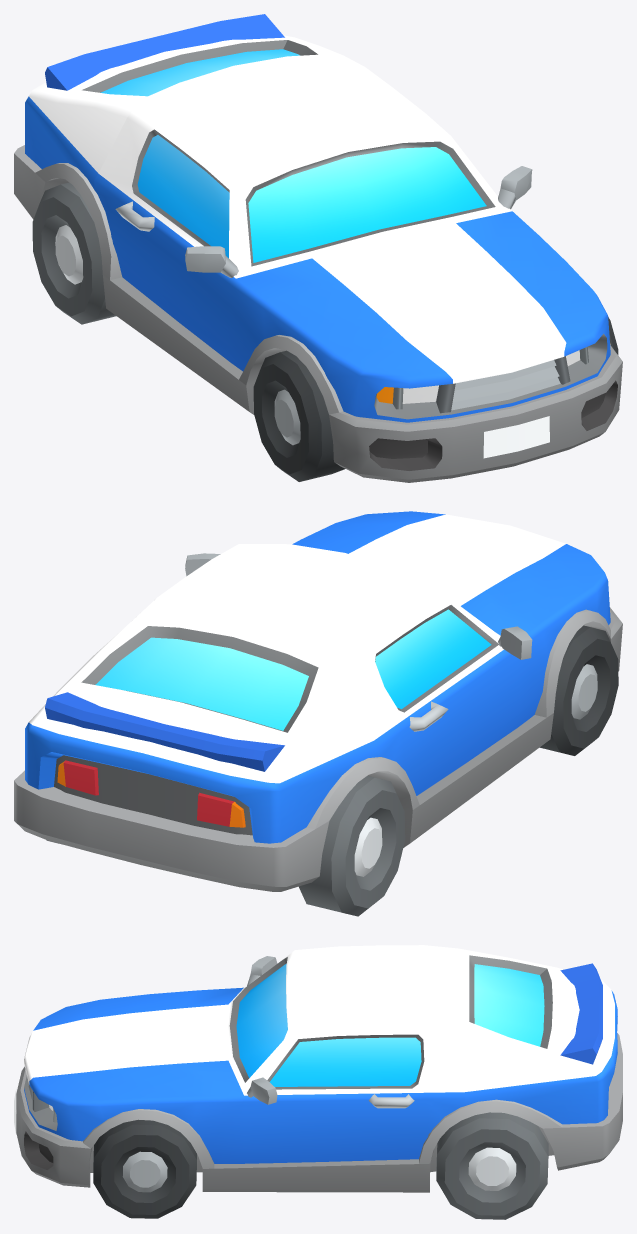
Rendered from city2-car-35.glb.
The picture shows the model from 3 angles, top to bottom: view 1: azimuth 30°, elevation 25°; view 2: azimuth 150°, elevation 25°; view 3: azimuth 270°, elevation 25°; orthographic projection. The views are drawn at different scales.
Parts seen in each view (by area): view 1: Car_35, Wheel_062, Wheel_061; view 2: Car_35, Wheel_061, Wheel_062; view 3: Car_35, Wheel_064, Wheel_063.
Part boxes in pixels (x1,y1,x2,y2): Car_35: (14,14,622,482); Wheel_062: (253,350,345,481); Wheel_061: (32,182,116,324); Car_35: (14,511,622,891); Wheel_061: (299,775,405,916); Wheel_062: (540,625,618,755); Car_35: (14,945,622,1192); Wheel_064: (436,1112,548,1219); Wheel_063: (93,1119,196,1218).
Size of the model in its own units: 2.49 by 1.61 by 4.74.
Materials: 2 (2 with a texture image).
